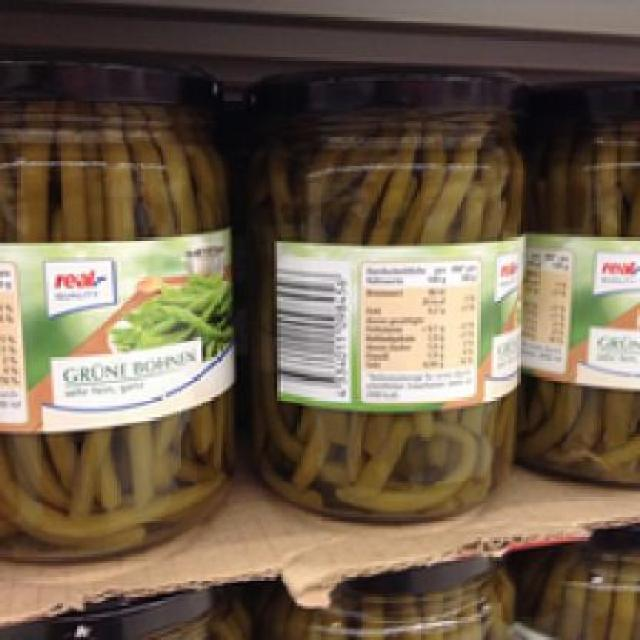Beans: (250, 62, 526, 528), (0, 57, 229, 563), (522, 49, 638, 492)
